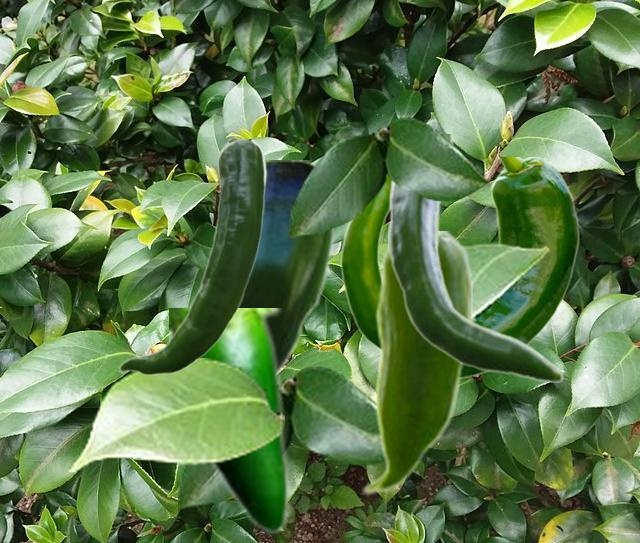green_chili: (340, 157, 579, 377), (388, 134, 563, 381), (118, 139, 266, 375), (188, 160, 332, 373), (360, 231, 471, 495), (169, 308, 289, 534)
